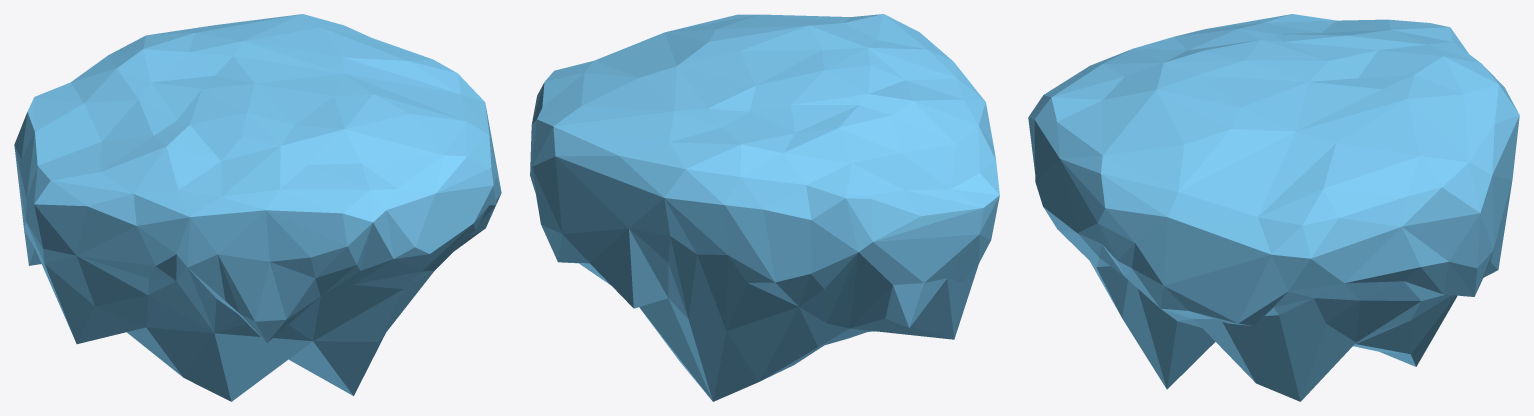
Rendered from PROP_Ice_FlyingIsland01.FBX.
3 renders of one model, left to right at view 1: azimuth 30°, elevation 25°; view 2: azimuth 150°, elevation 25°; view 3: azimuth 270°, elevation 25°, orthographic. The views are drawn at different scales.
Visible parts, largest first — view 1: PROP_Ice_FlyingIsland01; view 2: PROP_Ice_FlyingIsland01; view 3: PROP_Ice_FlyingIsland01.
Part boxes in pixels (box(x1,y1,x2,y2)): PROP_Ice_FlyingIsland01: box(14, 14, 501, 401); PROP_Ice_FlyingIsland01: box(530, 14, 999, 401); PROP_Ice_FlyingIsland01: box(1028, 14, 1519, 401).
Size of the model in its own units: 189 by 112 by 170.
1 material, 1 textured.
